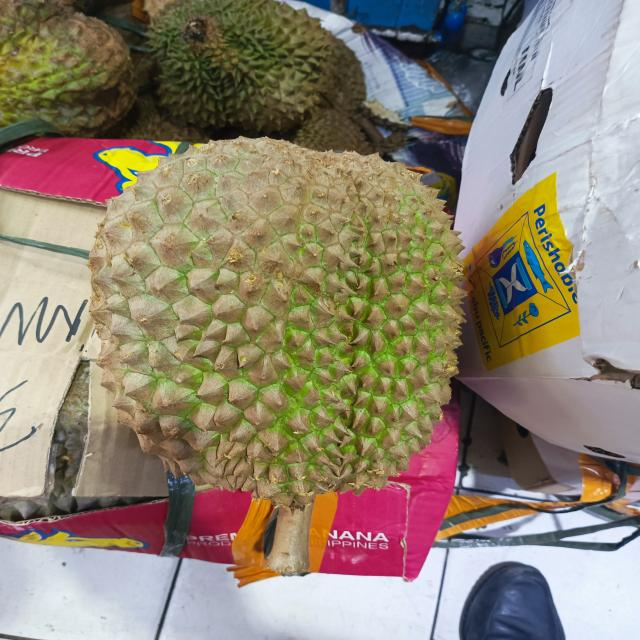immature: (130, 2, 358, 144)
mature: (82, 148, 446, 504), (0, 0, 142, 139)
